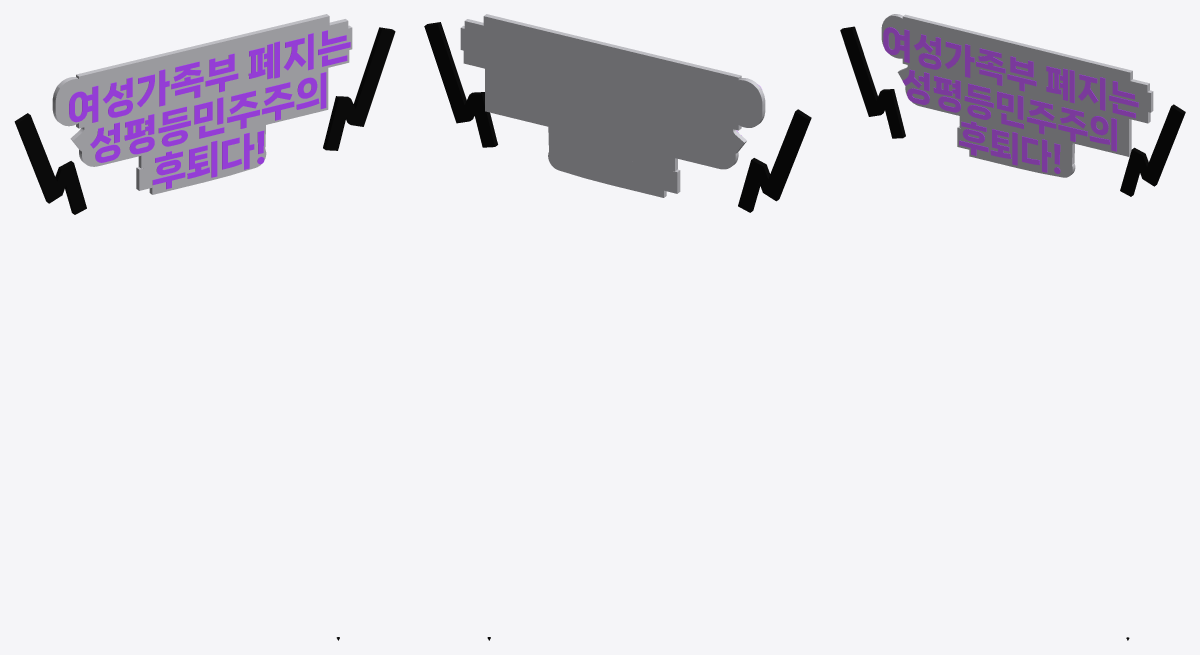
The model's file is yeo2_.glb.
3 renders of one model, left to right at view 1: azimuth 30°, elevation 25°; view 2: azimuth 150°, elevation 25°; view 3: azimuth 330°, elevation 25°, orthographic. The views are drawn at different scales.
Parts seen in each view (by area): view 1: Body67, Body66, Body65, Body10001; view 2: Body67, Body66, Body65; view 3: Body67, Body65, Body66, Body10001.
Part boxes in pixels (<box>): Body67: <box>52,14,352,194</box>; Body66: <box>323,27,395,150</box>; Body65: <box>14,113,86,214</box>; Body10001: <box>69,85,98,122</box>; Body67: <box>460,14,765,197</box>; Body66: <box>424,22,497,147</box>; Body65: <box>738,109,811,212</box>; Body67: <box>881,14,1153,177</box>; Body65: <box>840,26,905,138</box>; Body66: <box>1120,104,1185,196</box>; Body10001: <box>883,27,909,62</box>.
Size of the model in its own units: 1.26 by 1.98 by 0.0544.
